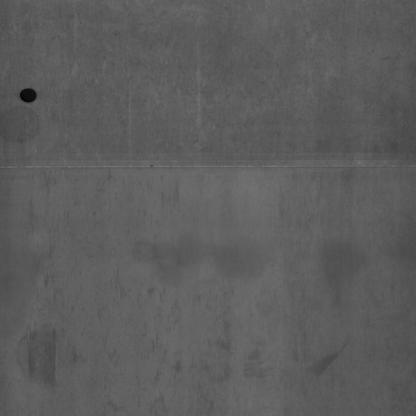punching_hole: (18, 82, 40, 108)
rolled_pit: (24, 319, 60, 386)
welding_line: (0, 148, 414, 178)
